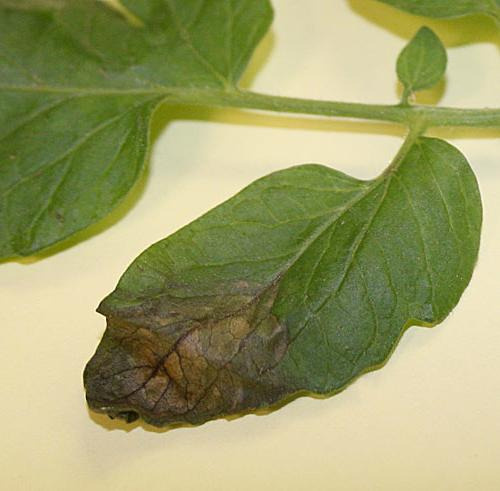Tomato leaf late blight: (61, 124, 487, 445)
